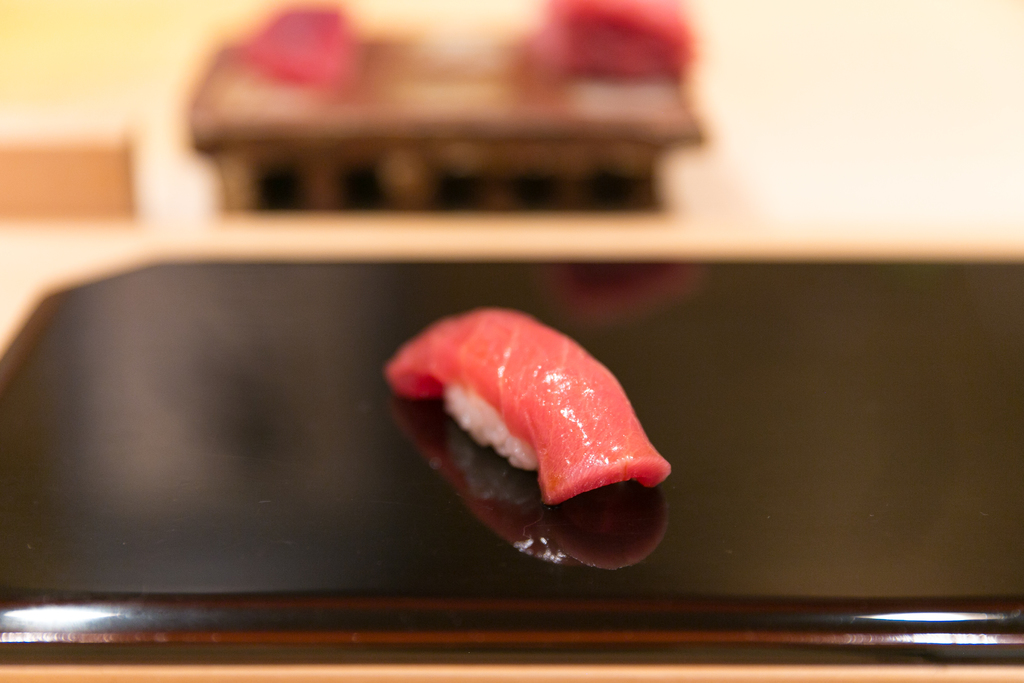sushi: (375, 311, 639, 513)
